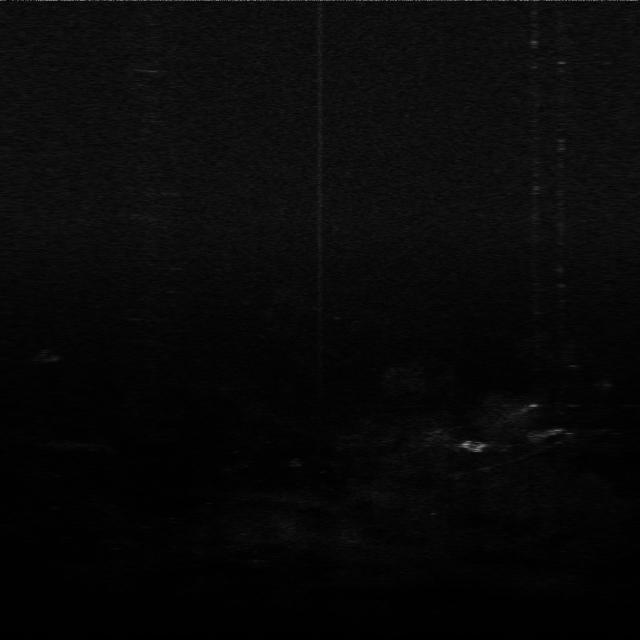rov: (456, 437, 490, 453)
